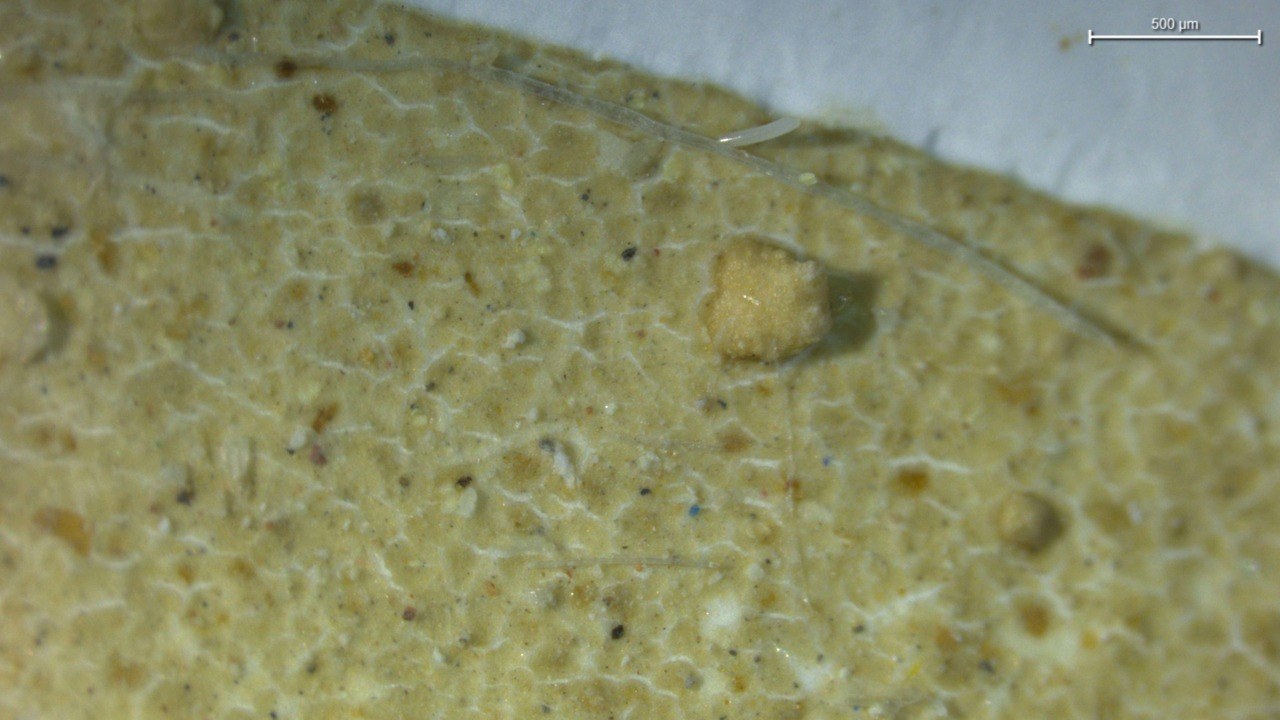microplastic_fragment: (701, 239, 829, 362)
